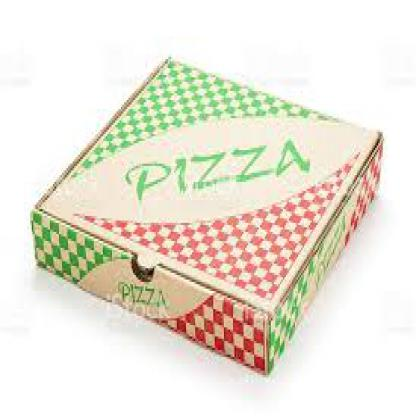CARDBOARD: (29, 55, 382, 375)
